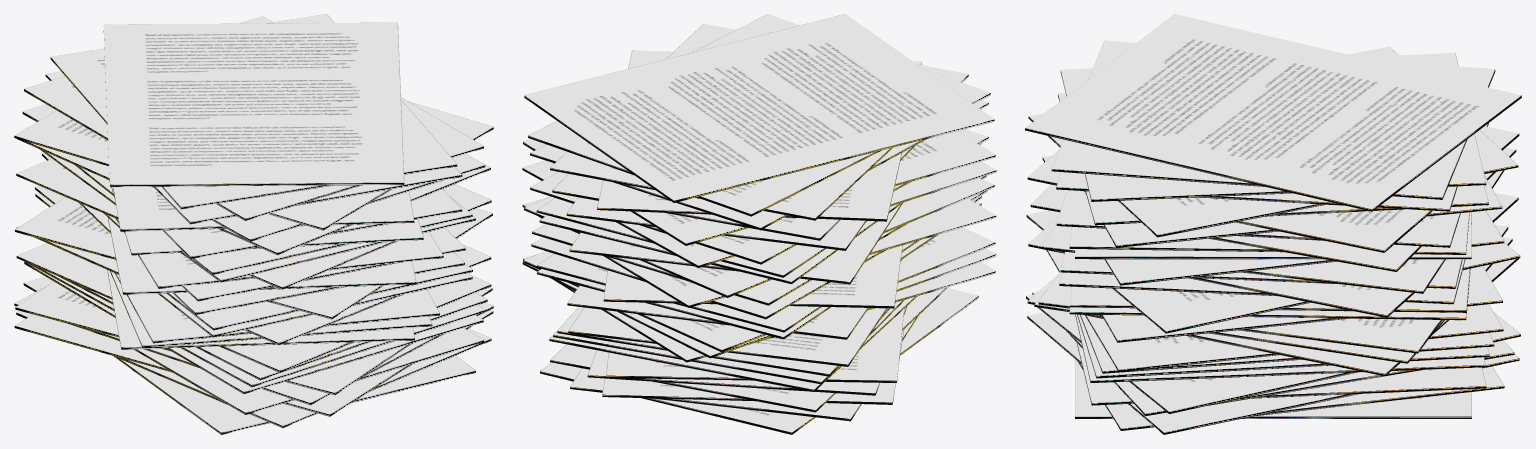
File: paper_pile.glb
3 views of the same model, side by side, from view 1: azimuth 30°, elevation 25°; view 2: azimuth 150°, elevation 25°; view 3: azimuth 270°, elevation 25° (orthographic). The views are drawn at different scales.
Parts seen in each view (by area): view 1: Papers.001; view 2: Papers.001; view 3: Papers.001.
Part boxes in pixels (bbox=[...]): Papers.001: bbox=[14, 14, 493, 434]; Papers.001: bbox=[522, 14, 996, 434]; Papers.001: bbox=[1025, 14, 1521, 434].
Size of the model in its own units: 0.4195 by 0.2424 by 0.4507.
1 material, 1 textured.
